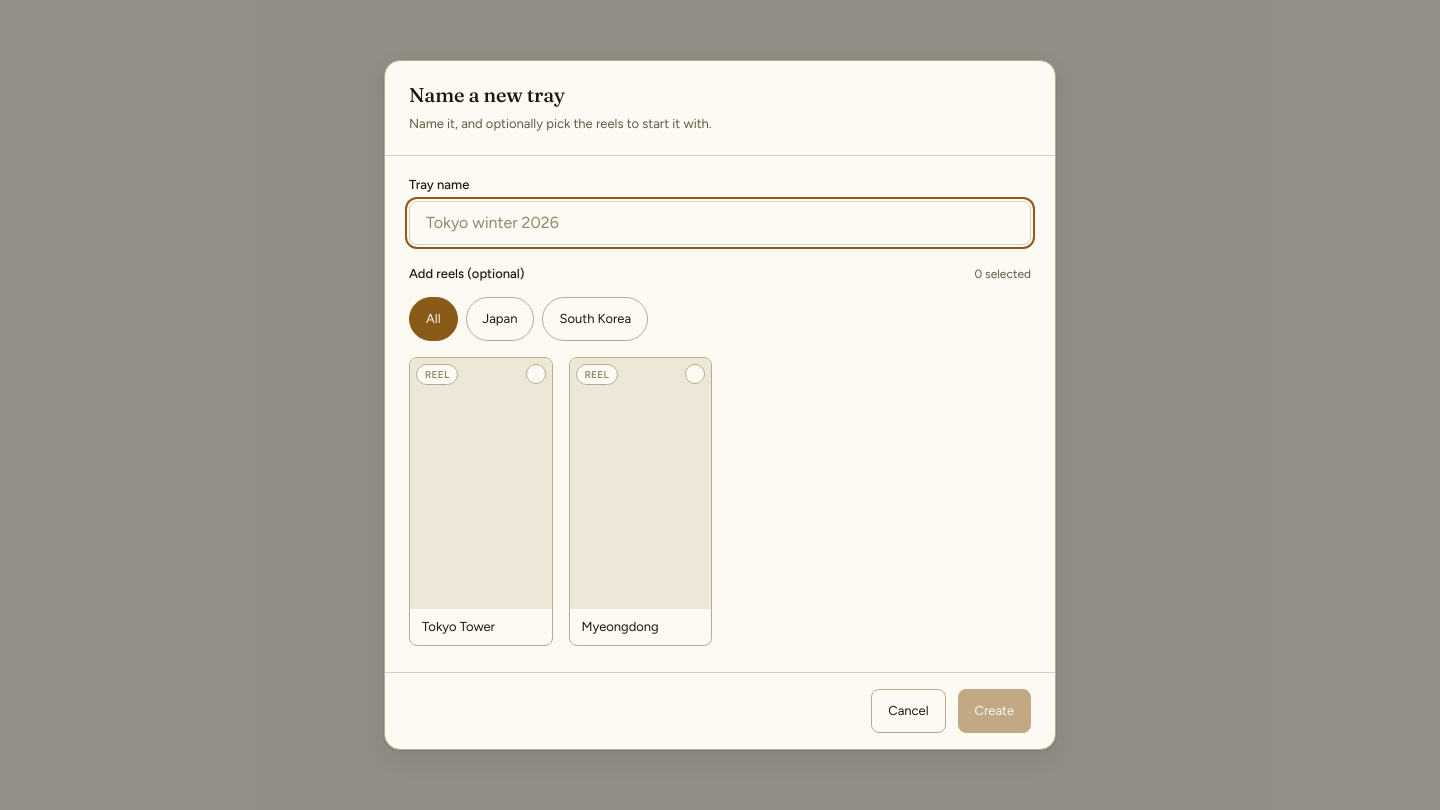
Test: CreateTrayDialog › narrows the reel picker by a country filter chip
expect the text "Tokyo Tower" is shown: met, box top-left (422, 619), bottom-right (495, 634)
expect the text "Myeongdong" is shown: met, box top-left (582, 619), bottom-right (659, 634)
Click the button "Japan" at x=500, y=319, box top-left (466, 297), bottom-right (534, 341)
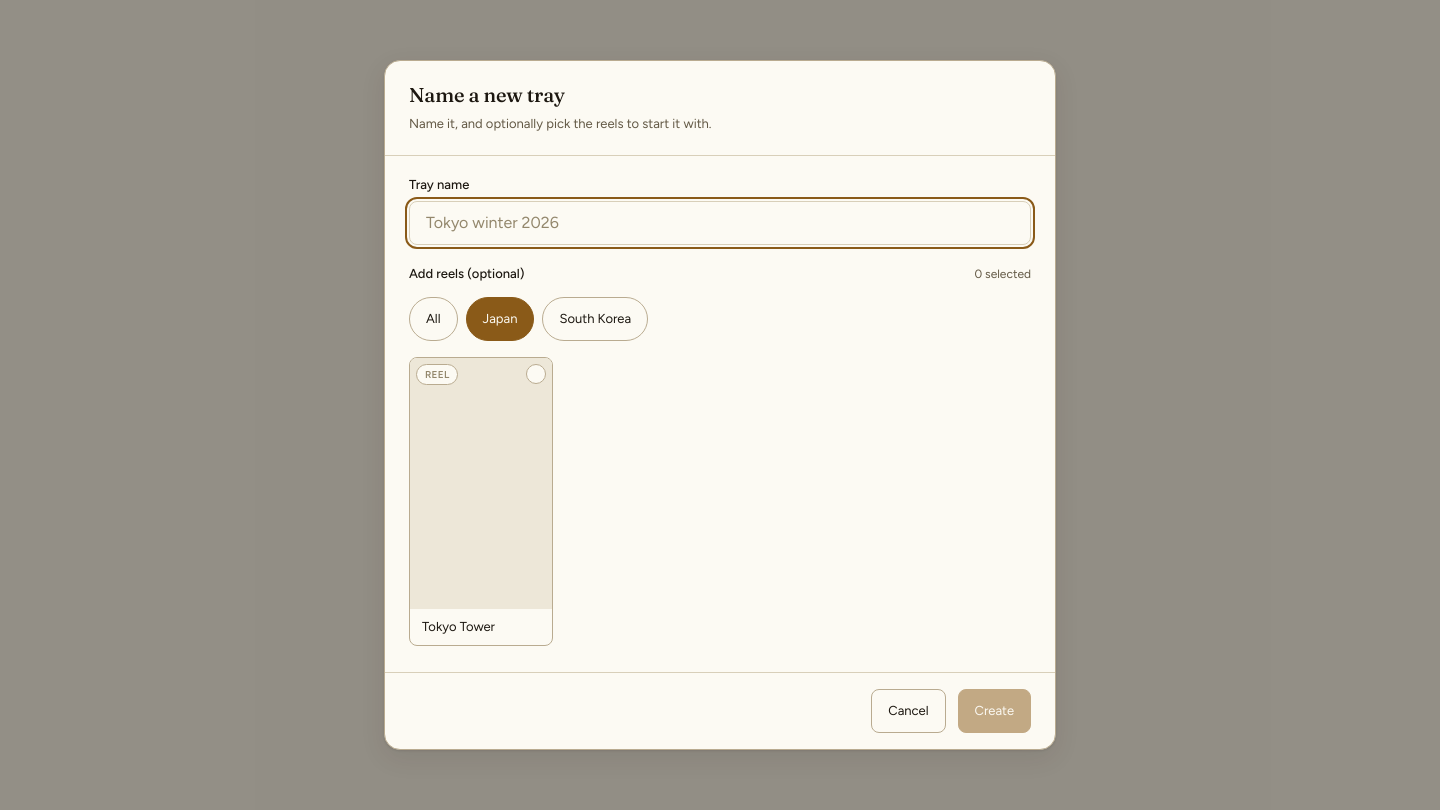
expect the text "Tokyo Tower" is shown: met, box top-left (422, 619), bottom-right (495, 634)
expect the button "Myeongdong" is gone: met
